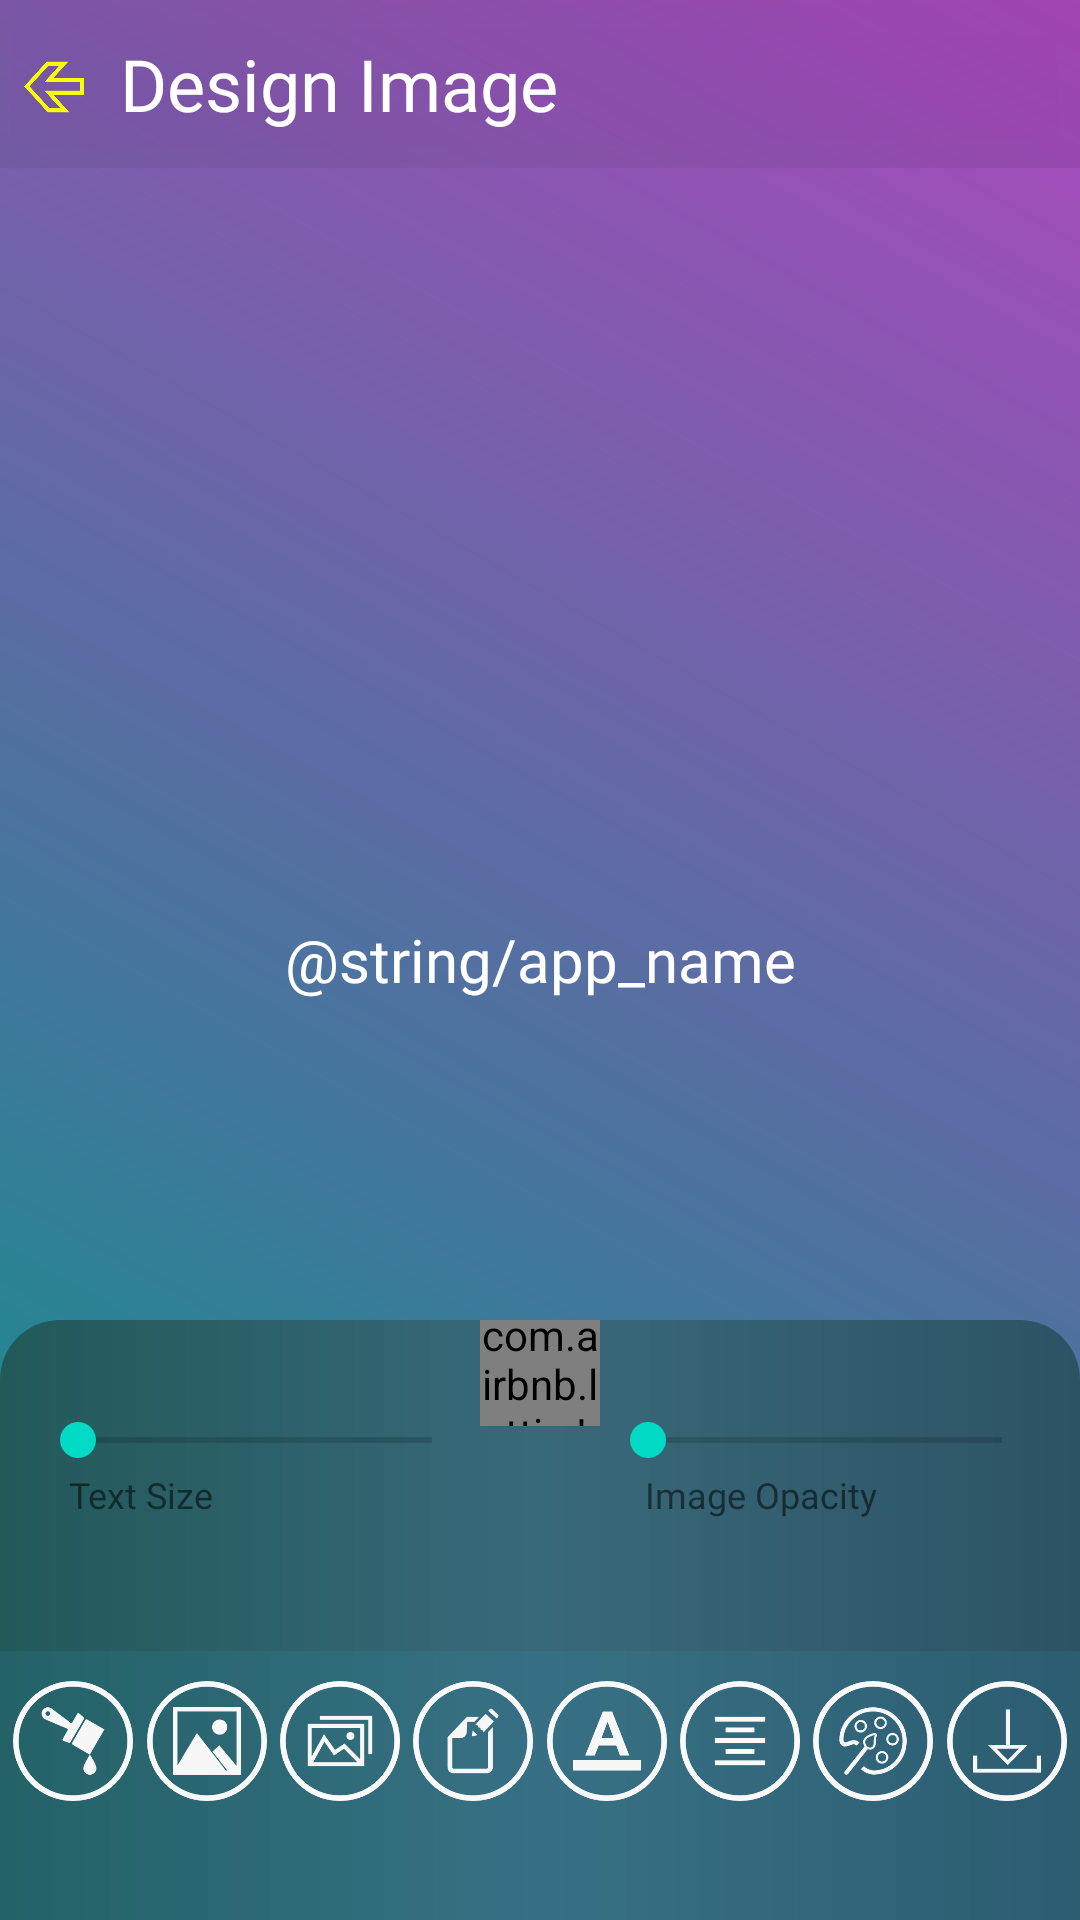

Where icons sit on this 1080w x 1920h app screen, as (x1, y1, x2, y2):
back: (24, 61, 84, 113)
backcolore: (13, 1681, 133, 1801)
download: (947, 1681, 1067, 1801)
editshayari: (413, 1681, 533, 1801)
fontcolore: (813, 1681, 933, 1801)
fontstyle: (547, 1681, 667, 1801)
textalinecenter: (680, 1681, 800, 1801)
